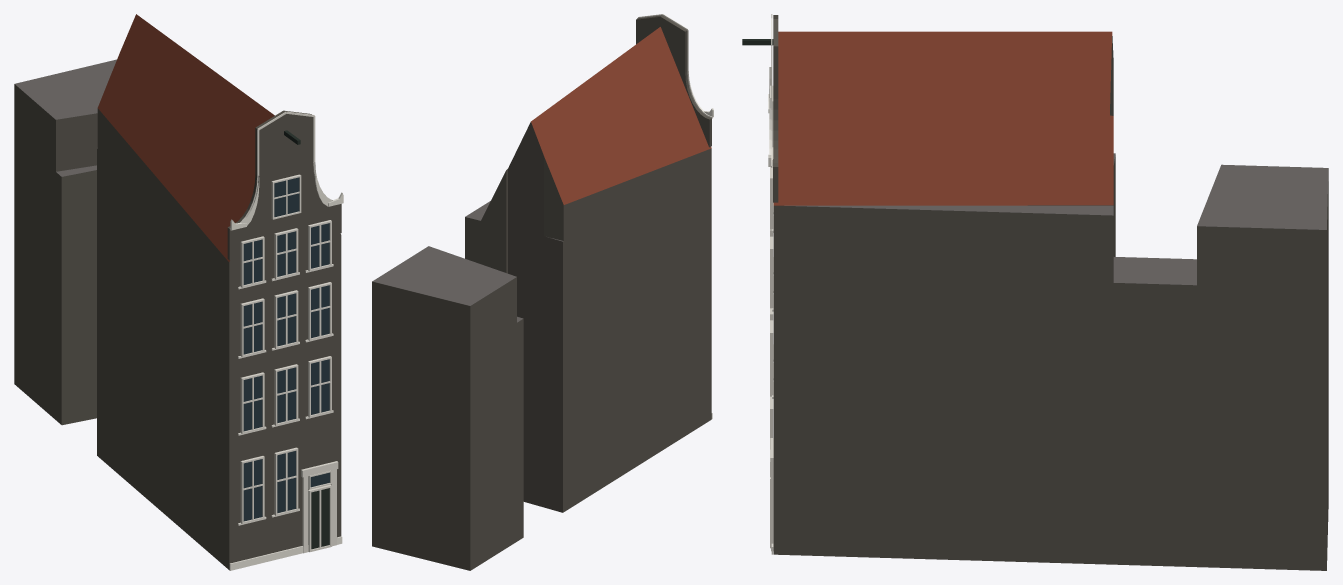
3 views of the same model, side by side, from view 1: azimuth 30°, elevation 25°; view 2: azimuth 150°, elevation 25°; view 3: azimuth 270°, elevation 25° (orthographic). The views are drawn at different scales.
Visible parts, largest first — view 1: spec-0363100012171305; view 2: spec-0363100012171305; view 3: spec-0363100012171305.
Part boxes in pixels (x1=…): spec-0363100012171305: x1=14, y1=14, x2=343, y2=570; spec-0363100012171305: x1=372, y1=14, x2=713, y2=570; spec-0363100012171305: x1=742, y1=14, x2=1328, y2=570.
Size of the model in its own units: 6.53 by 19.63 by 20.62.
